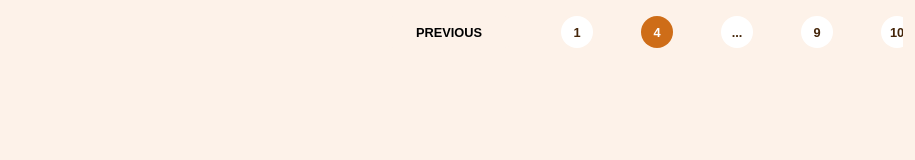
renders pagination component › renders dots button when current page is more than number of pages - 3 and shows all pages after clicking it
Check: the text "6" is not shown
Click the button "..." at {"x": 737, "y": 32}, box top-left (721, 16), bottom-right (753, 48)
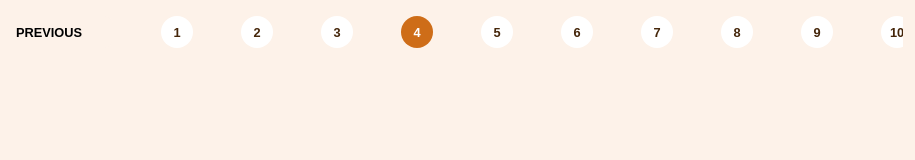
Check: the button "6" is shown, box top-left (561, 16), bottom-right (593, 48)
